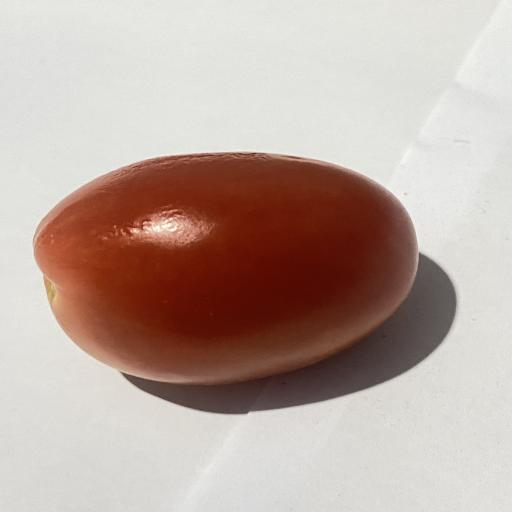spoiled: (34, 153, 418, 384)
